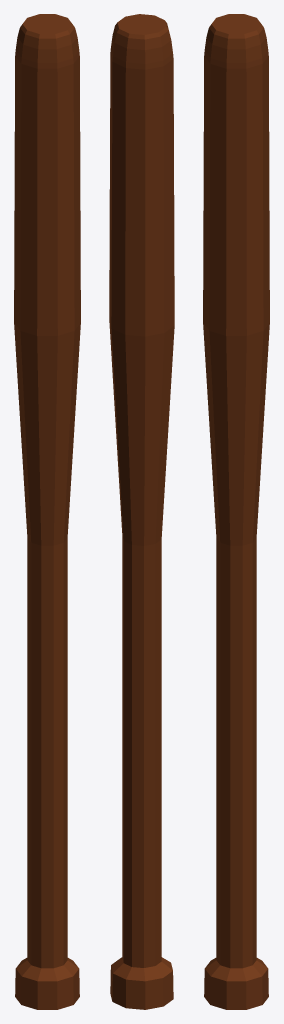
Rendered from Bat.fbx.
3 renders of one model, left to right at view 1: azimuth 90°, elevation 25°; view 2: azimuth 150°, elevation 25°; view 3: azimuth 270°, elevation 25°, orthographic.
Parts seen in each view (by area): view 1: Bat; view 2: Bat; view 3: Bat.
Boxes of the visible parts, x1=… form: Bat: x1=14, y1=14, x2=80, y2=1009; Bat: x1=109, y1=14, x2=174, y2=1009; Bat: x1=203, y1=14, x2=269, y2=1009.
Bounding box in the file's own units: 72.23 × 1218 × 75.95.
